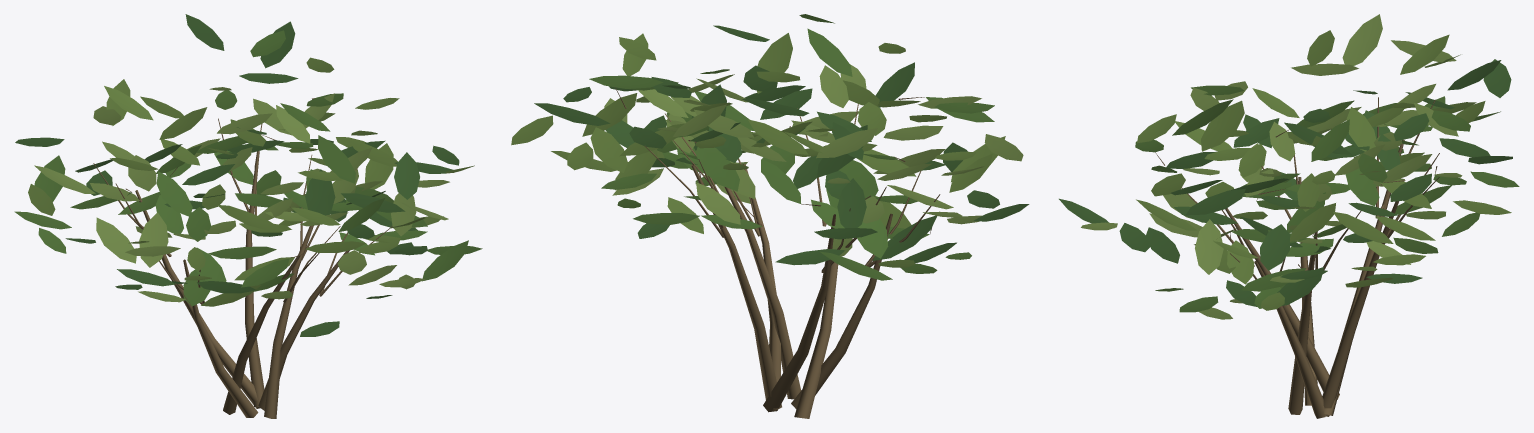
The model's file is Lentisque_0_Low.fbx.
The picture shows the model from 3 angles, left to right: view 1: azimuth 30°, elevation 25°; view 2: azimuth 150°, elevation 25°; view 3: azimuth 270°, elevation 25°; orthographic projection. The views are drawn at different scales.
Visible parts, largest first — view 1: Lentisque_0_Low; view 2: Lentisque_0_Low; view 3: Lentisque_0_Low.
Part boxes in pixels (box(x1,y1,x2,y2)): Lentisque_0_Low: box(14, 14, 482, 418); Lentisque_0_Low: box(511, 14, 1029, 418); Lentisque_0_Low: box(1059, 14, 1519, 418).
Size of the model in its own units: 224 by 185 by 215.
